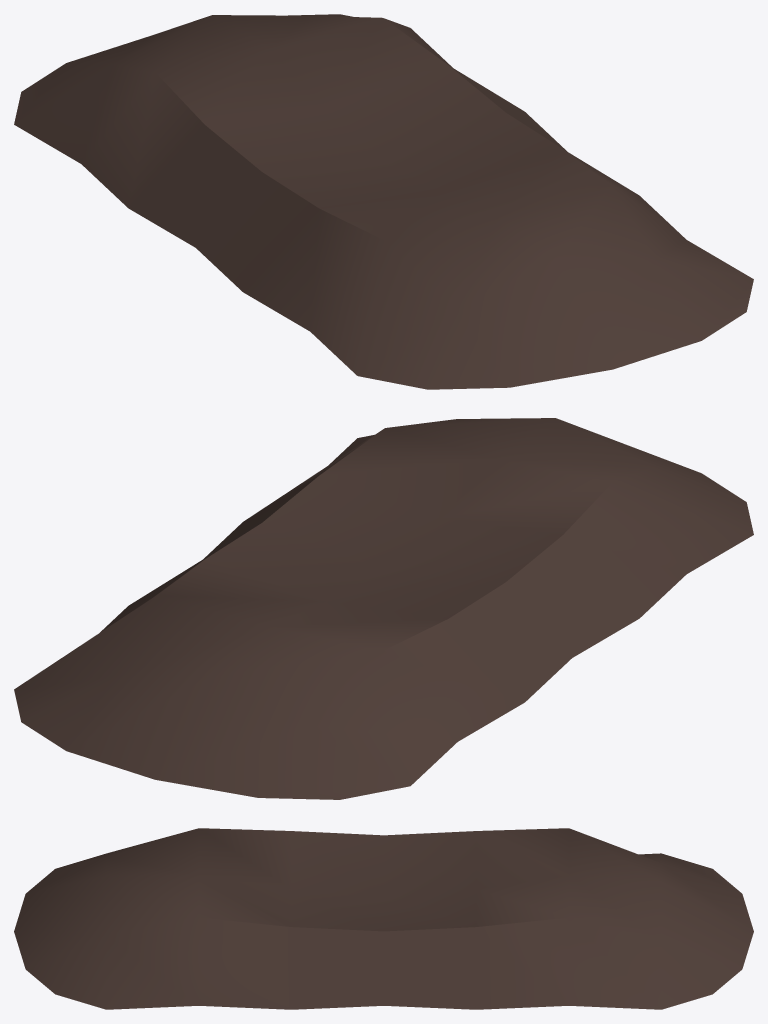
Rendered from grave_003.fbx.
3 renders of one model, top to bottom at view 1: azimuth 30°, elevation 25°; view 2: azimuth 150°, elevation 25°; view 3: azimuth 270°, elevation 25°, orthographic. The views are drawn at different scales.
Parts seen in each view (by area): view 1: grave.003; view 2: grave.003; view 3: grave.003.
Part boxes in pixels (<box>): grave.003: <box>14,14,753,389</box>; grave.003: <box>14,418,753,799</box>; grave.003: <box>14,828,753,1009</box>.
Size of the model in its own units: 100 by 17.51 by 200.
